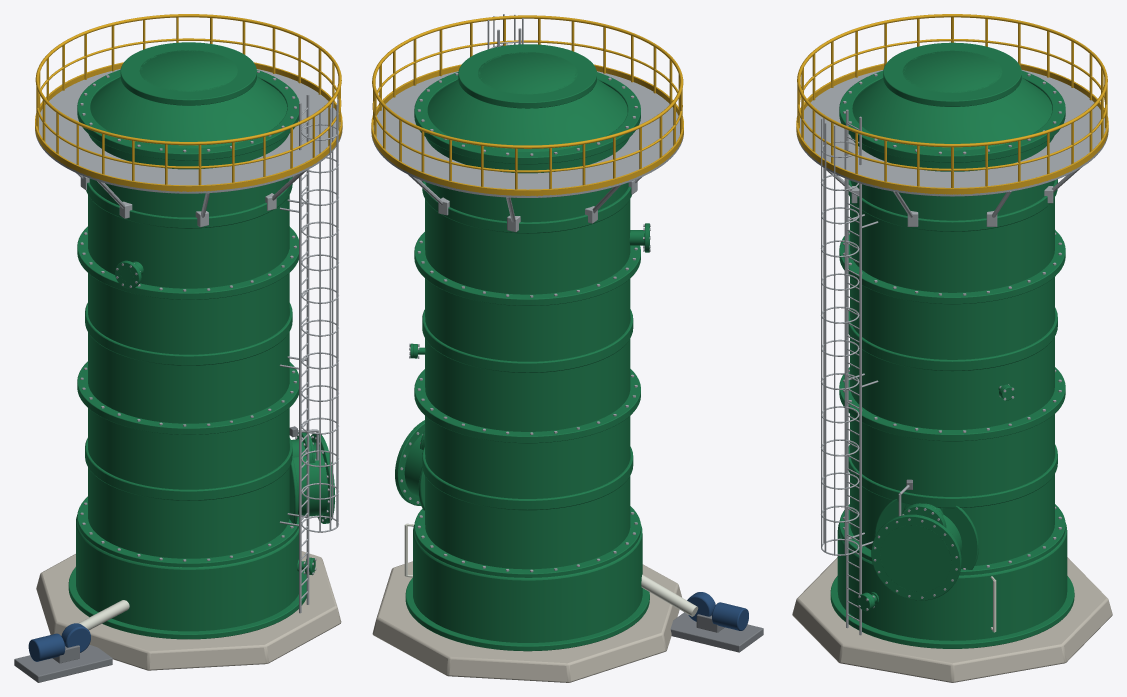
File: scrubber.glb
3 views of the same model, side by side, from view 1: azimuth 30°, elevation 25°; view 2: azimuth 150°, elevation 25°; view 3: azimuth 270°, elevation 25° (orthographic).
Visible parts, largest first — view 1: scrubber_frp, scrubber_galv, scrubber_concrete, scrubber_yellow, scrubber_steel, scrubber_pump, scrubber_frp_pale; view 2: scrubber_frp, scrubber_galv, scrubber_concrete, scrubber_yellow, scrubber_steel, scrubber_pump, scrubber_frp_pale; view 3: scrubber_frp, scrubber_galv, scrubber_concrete, scrubber_yellow.
Boxes of the visible parts, bbox=[...] form: scrubber_frp: bbox=[68, 42, 334, 639]; scrubber_galv: bbox=[35, 69, 342, 613]; scrubber_concrete: bbox=[36, 551, 341, 670]; scrubber_yellow: bbox=[35, 14, 342, 191]; scrubber_steel: bbox=[14, 426, 297, 682]; scrubber_pump: bbox=[28, 623, 90, 661]; scrubber_frp_pale: bbox=[78, 600, 129, 630]; scrubber_frp: bbox=[395, 44, 649, 651]; scrubber_galv: bbox=[371, 14, 683, 572]; scrubber_concrete: bbox=[372, 561, 681, 682]; scrubber_yellow: bbox=[371, 15, 683, 196]; scrubber_steel: bbox=[670, 612, 763, 652]; scrubber_pump: bbox=[687, 592, 748, 630]; scrubber_frp_pale: bbox=[404, 523, 698, 616]; scrubber_frp: bbox=[830, 42, 1074, 648]; scrubber_galv: bbox=[796, 70, 1108, 635]; scrubber_concrete: bbox=[792, 557, 1112, 682]; scrubber_yellow: bbox=[796, 14, 1108, 194].
Bounding box in the file's own units: 7.88 × 12.3 × 6.56.
